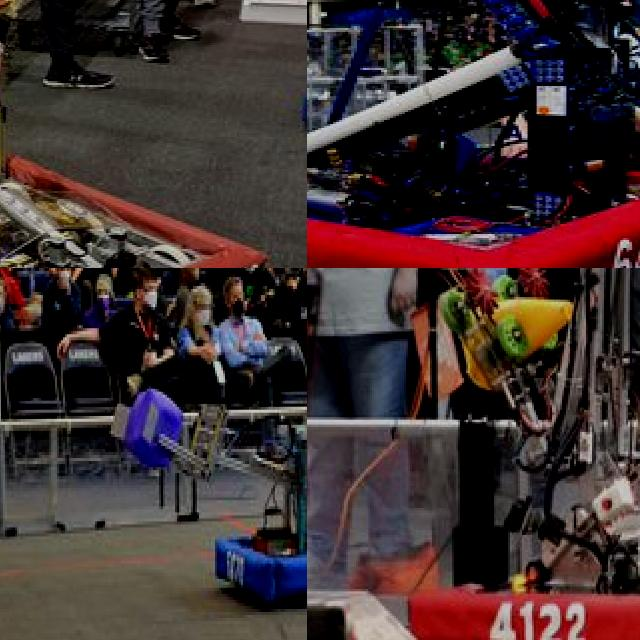FRC-Robots: (307, 0, 640, 268), (414, 268, 640, 640), (0, 0, 279, 268), (105, 358, 307, 620)
